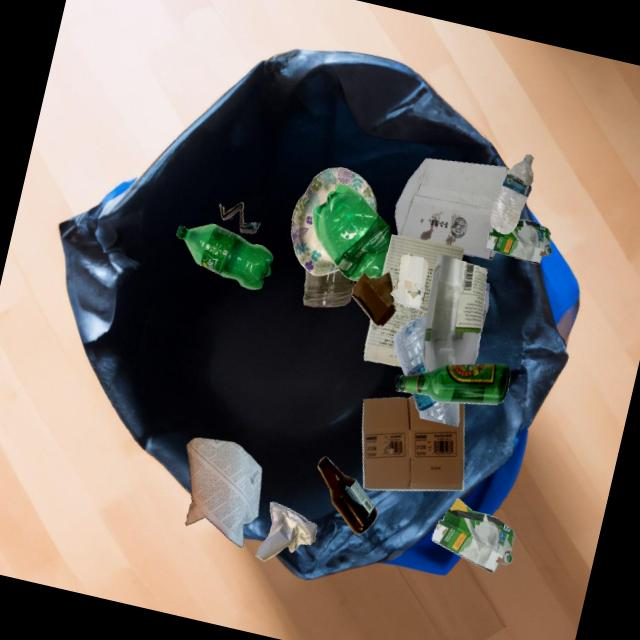cardboard: (394, 158, 509, 260), (361, 396, 464, 490), (291, 167, 376, 275), (431, 498, 515, 572), (486, 219, 551, 264), (351, 272, 395, 326), (390, 254, 428, 309), (219, 202, 260, 233)
glass: (422, 254, 487, 372), (394, 363, 510, 404), (317, 456, 377, 534), (303, 269, 354, 307)
paper: (363, 234, 463, 366), (185, 437, 261, 547), (255, 502, 317, 561)
plastic: (311, 183, 391, 280), (175, 223, 273, 290), (490, 154, 533, 234), (393, 316, 426, 375), (411, 392, 459, 427), (480, 282, 489, 334)
